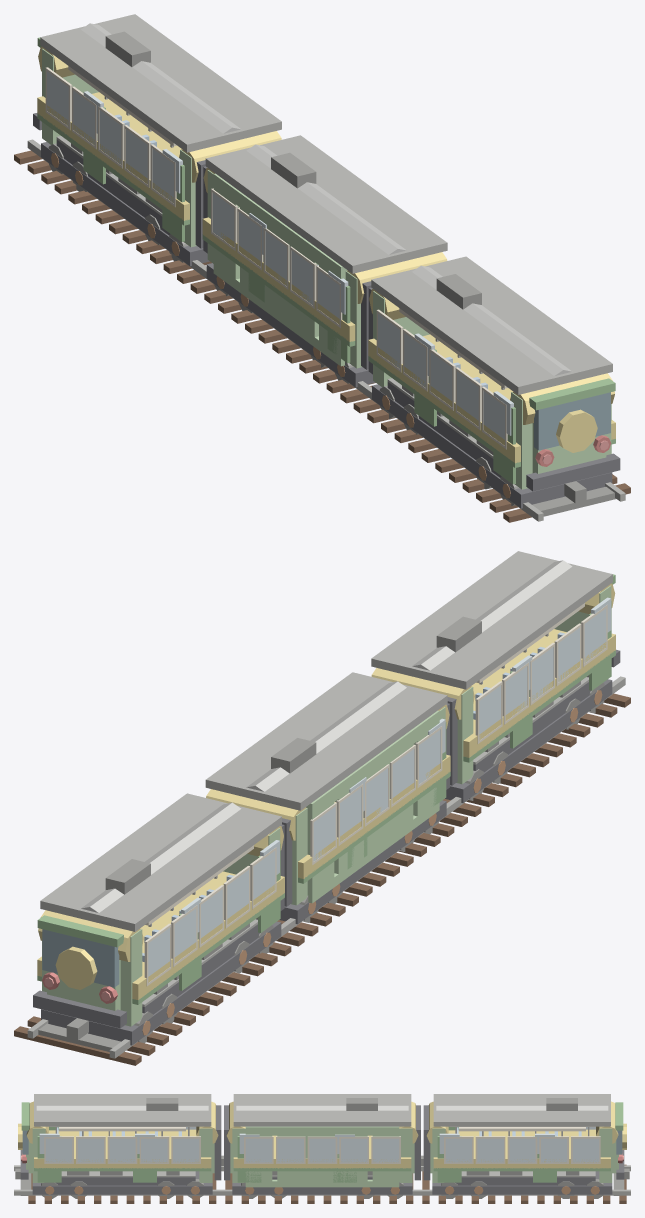
The model's file is vlak_regionova.glb.
The picture shows the model from 3 angles, top to bottom: view 1: azimuth 30°, elevation 25°; view 2: azimuth 150°, elevation 25°; view 3: azimuth 270°, elevation 25°; orthographic projection. The views are drawn at different scales.
Parts seen in each view (by area): view 1: VlakRegionova_grey3, VlakRegionova_yellow, VlakRegionova_glass, VlakRegionova_dark, VlakRegionova_green, VlakRegionova_darkwood, VlakRegionova_green2, VlakRegionova_cream, VlakRegionova_grey4, VlakRegionova_grey, VlakRegionova_glassdark, VlakRegionova_rust; view 2: VlakRegionova_grey3, VlakRegionova_yellow, VlakRegionova_glass, VlakRegionova_dark, VlakRegionova_green, VlakRegionova_darkwood, VlakRegionova_cream, VlakRegionova_grey4, VlakRegionova_green2, VlakRegionova_grey, VlakRegionova_glassdark, VlakRegionova_rust; view 3: VlakRegionova_grey3, VlakRegionova_glass, VlakRegionova_dark, VlakRegionova_green, VlakRegionova_yellow, VlakRegionova_cream, VlakRegionova_green2, VlakRegionova_grey4, VlakRegionova_darkwood, VlakRegionova_grey, VlakRegionova_rust, VlakRegionova_glassdark (+1 smaller).
Boxes of the visible parts, x1,y1,x2,y2 form: VlakRegionova_grey3: [27, 14, 625, 521]; VlakRegionova_yellow: [37, 46, 615, 463]; VlakRegionova_glass: [47, 71, 513, 439]; VlakRegionova_dark: [33, 113, 620, 508]; VlakRegionova_green: [42, 48, 611, 489]; VlakRegionova_darkwood: [14, 150, 630, 522]; VlakRegionova_green2: [37, 37, 615, 484]; VlakRegionova_cream: [45, 66, 507, 449]; VlakRegionova_grey4: [48, 31, 615, 516]; VlakRegionova_grey: [81, 23, 571, 375]; VlakRegionova_glassdark: [534, 392, 610, 450]; VlakRegionova_rust: [51, 153, 510, 498]; VlakRegionova_grey3: [27, 551, 625, 1058]; VlakRegionova_yellow: [37, 583, 615, 999]; VlakRegionova_glass: [148, 597, 611, 976]; VlakRegionova_dark: [33, 649, 620, 1045]; VlakRegionova_green: [42, 585, 611, 1026]; VlakRegionova_darkwood: [14, 693, 630, 1065]; VlakRegionova_cream: [144, 603, 607, 986]; VlakRegionova_grey4: [38, 616, 604, 1051]; VlakRegionova_green2: [37, 574, 615, 1004]; VlakRegionova_grey: [81, 560, 572, 912]; VlakRegionova_glassdark: [42, 929, 119, 987]; VlakRegionova_rust: [142, 690, 602, 1035]; VlakRegionova_grey3: [14, 1094, 630, 1195]; VlakRegionova_glass: [39, 1127, 599, 1162]; VlakRegionova_dark: [20, 1105, 624, 1194]; VlakRegionova_green: [26, 1126, 618, 1187]; VlakRegionova_yellow: [18, 1101, 626, 1168]; VlakRegionova_cream: [44, 1126, 600, 1163]; VlakRegionova_green2: [21, 1102, 623, 1182]; VlakRegionova_grey4: [15, 1098, 629, 1198]; VlakRegionova_darkwood: [28, 1164, 626, 1203]; VlakRegionova_grey: [36, 1105, 608, 1110]; VlakRegionova_rust: [45, 1186, 599, 1194]; VlakRegionova_glassdark: [22, 1130, 622, 1154].
Size of the model in its own units: 3.2 by 3.55 by 23.3.
